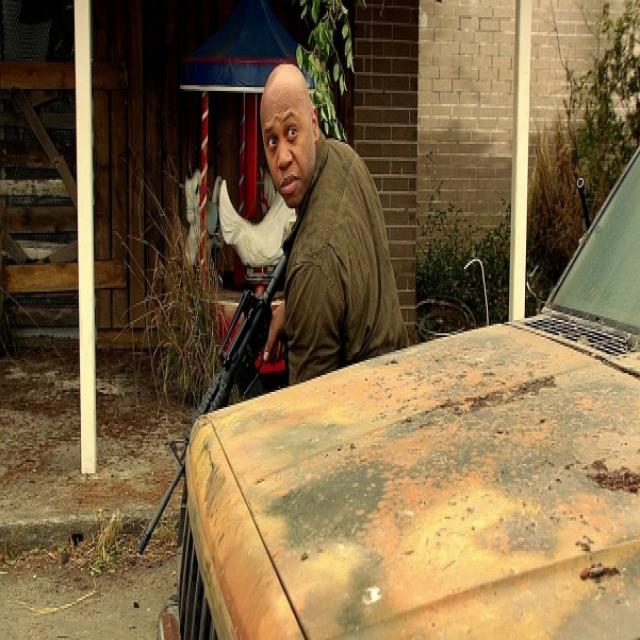rifle: (137, 247, 294, 563)
